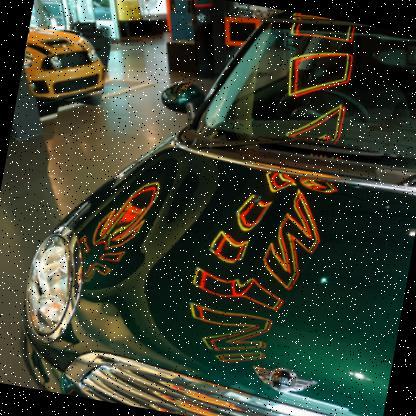Car: (8, 0, 415, 415), (18, 23, 111, 108)
